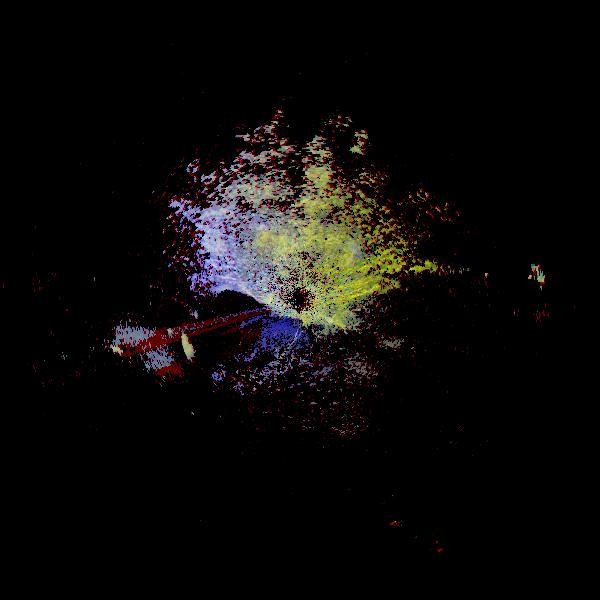roost: (150, 325, 195, 370), (91, 341, 127, 377)
